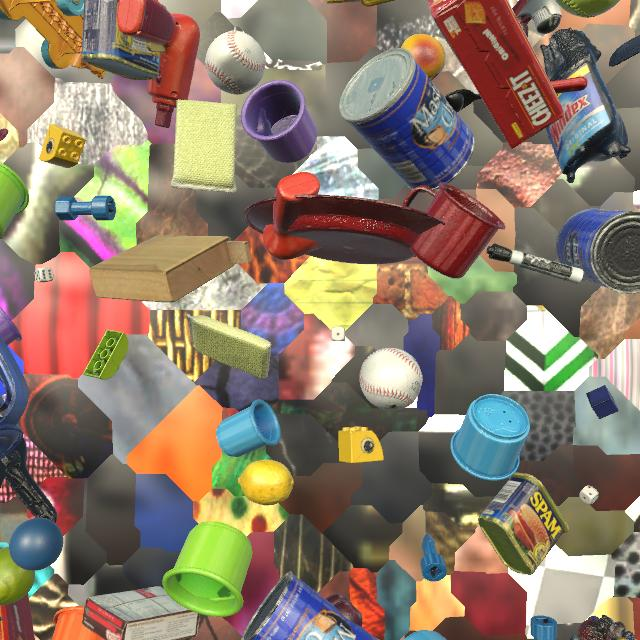ycb_002_master_chef_can: (339, 48, 475, 193), (241, 571, 379, 640), (556, 208, 640, 294)
ycb_003_cracker_box: (428, 0, 564, 149), (0, 547, 35, 640)
ycb_007_tuna_fish_can: (0, 616, 5, 621)
ycb_008_pudding_box: (82, 586, 200, 640)
ycb_010_potted_meat_can: (478, 472, 569, 575), (82, 0, 167, 80)
ycb_014_lemon: (238, 460, 294, 505)
ycb_015_peach: (401, 34, 446, 81)
ycb_016_pear: (0, 547, 35, 605)
ycb_018_plum: (326, 593, 363, 627)
